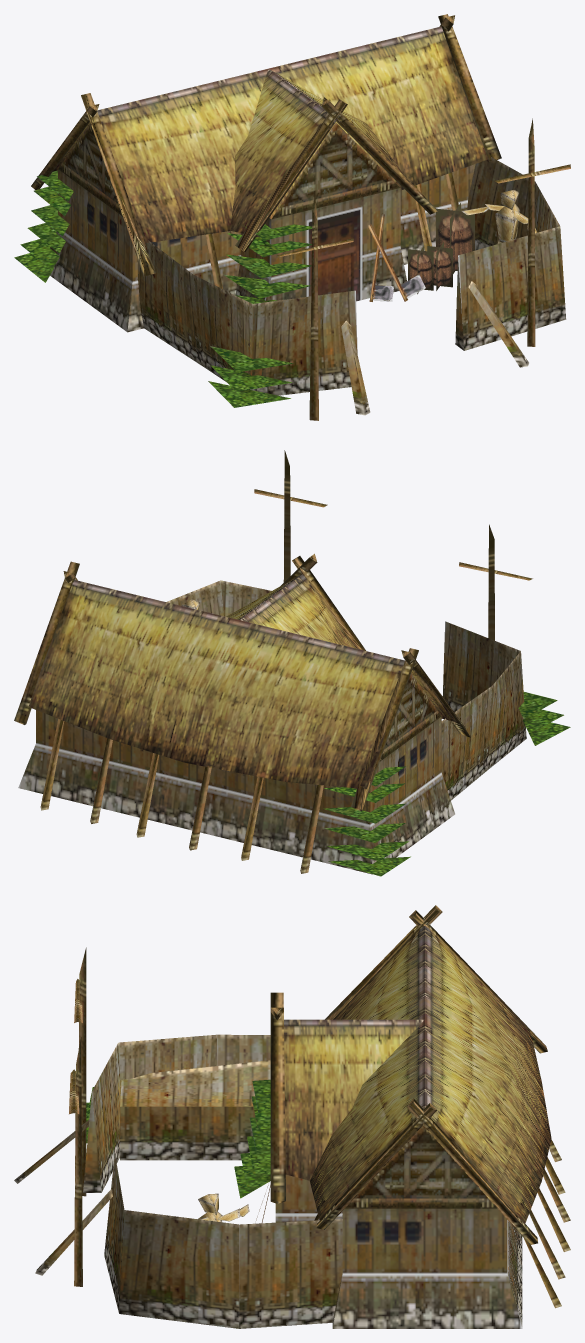
Rendered from longhouse_base.glb.
The picture shows the model from 3 angles, top to bottom: view 1: azimuth 30°, elevation 25°; view 2: azimuth 150°, elevation 25°; view 3: azimuth 270°, elevation 25°; orthographic projection. The views are drawn at different scales.
Parts seen in each view (by area): view 1: MeshRoot; view 2: MeshRoot; view 3: MeshRoot.
Boxes of the visible parts, bbox=[...] form: MeshRoot: bbox=[14, 14, 570, 420]; MeshRoot: bbox=[14, 450, 570, 876]; MeshRoot: bbox=[14, 905, 570, 1328].
Size of the model in its own units: 8.75 by 5.37 by 9.84.
4 materials, 4 textured.
